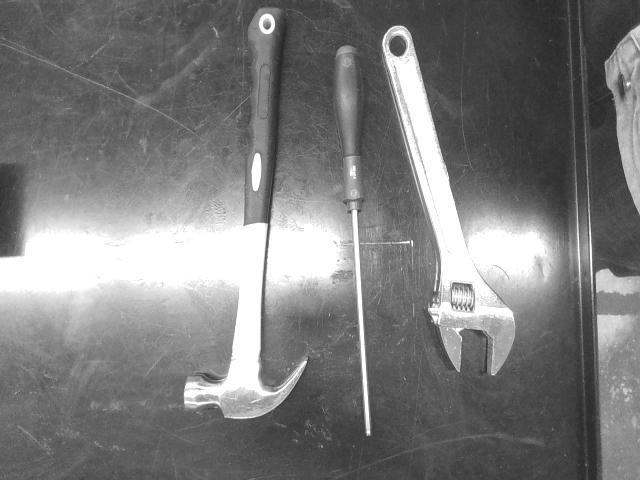Adjustable spanner: (382, 27, 515, 375)
Hammer: (184, 8, 308, 418)
Screwdriver: (334, 45, 371, 437)
